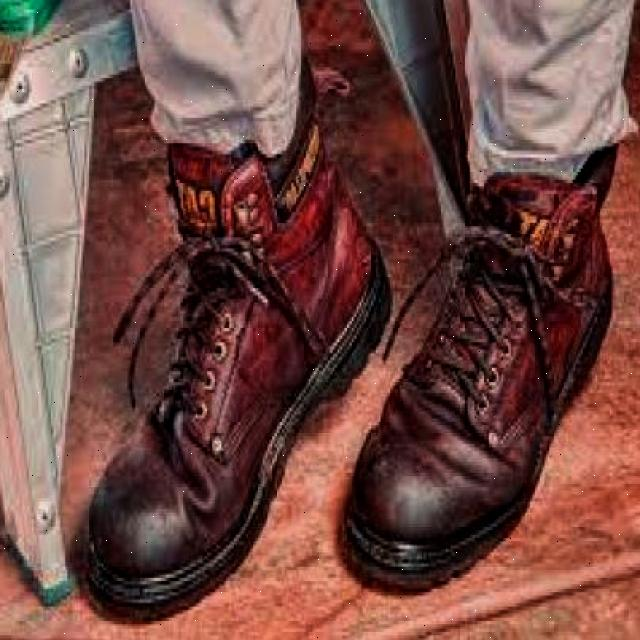Safety Boots: (88, 86, 387, 619), (345, 155, 612, 589)
